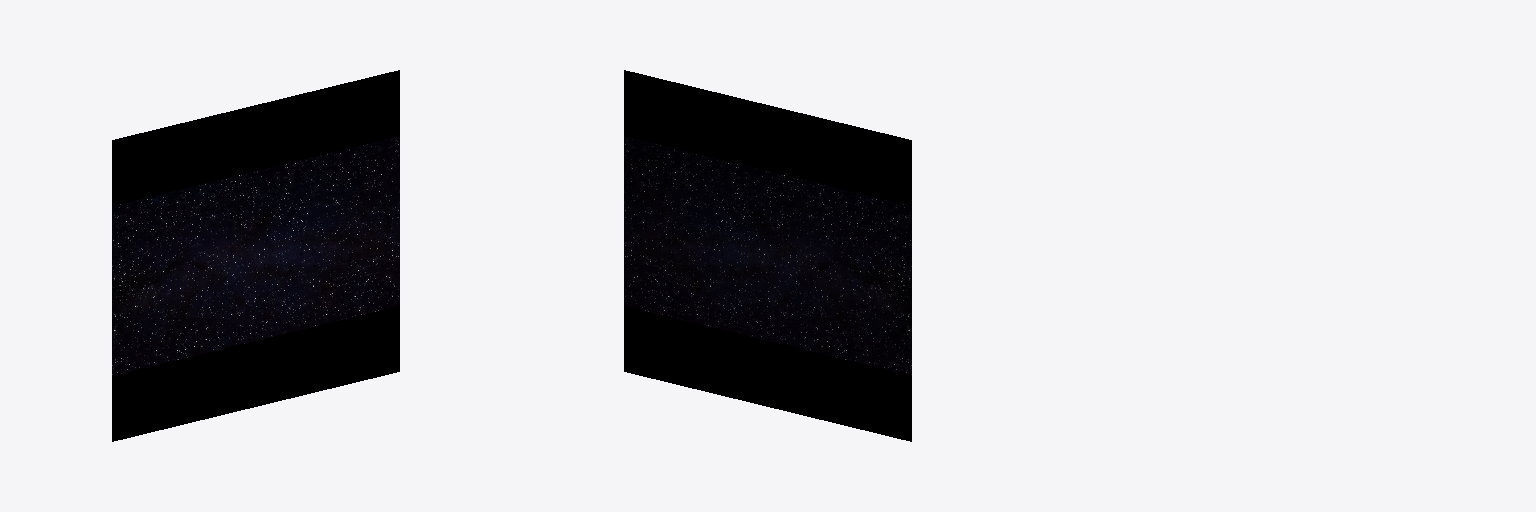
The picture shows the model from 3 angles: view 1: azimuth 30°, elevation 25°; view 2: azimuth 150°, elevation 25°; view 3: azimuth 270°, elevation 25°; orthographic projection.
Parts seen in each view (by area): view 1: Plane; view 2: Plane; view 3: none.
Part boxes in pixels (x1,y1,x2,y2): Plane: (112,70,399,441); Plane: (624,70,911,441).
Bounding box in the file's own units: 11.59 × 11.59 × 0.
1 materials, 1 textured.